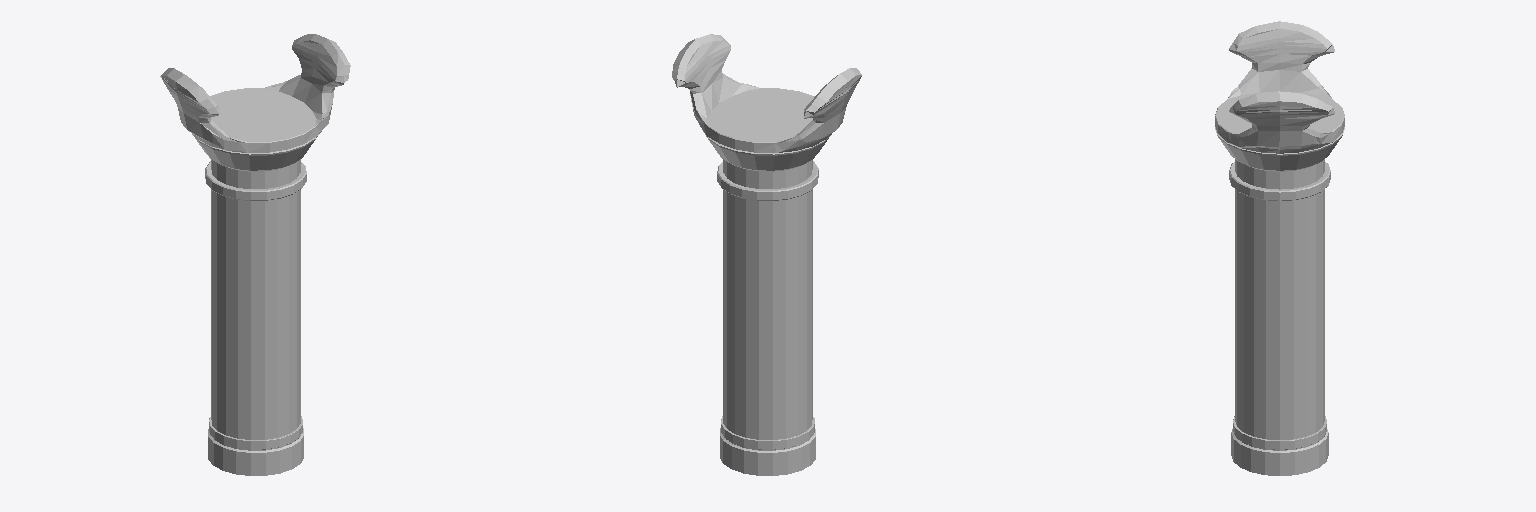
File: SupportPillar.obj
3 views of the same model, side by side, from view 1: azimuth 30°, elevation 25°; view 2: azimuth 150°, elevation 25°; view 3: azimuth 270°, elevation 25° (orthographic).
Visible parts, largest first — view 1: pCylinder1; view 2: pCylinder1; view 3: pCylinder1.
Part boxes in pixels (x1,y1,x2,y2): pCylinder1: (160, 34, 350, 475); pCylinder1: (672, 34, 861, 475); pCylinder1: (1215, 21, 1344, 475).
Bounding box in the file's own units: 412 × 982 × 293.